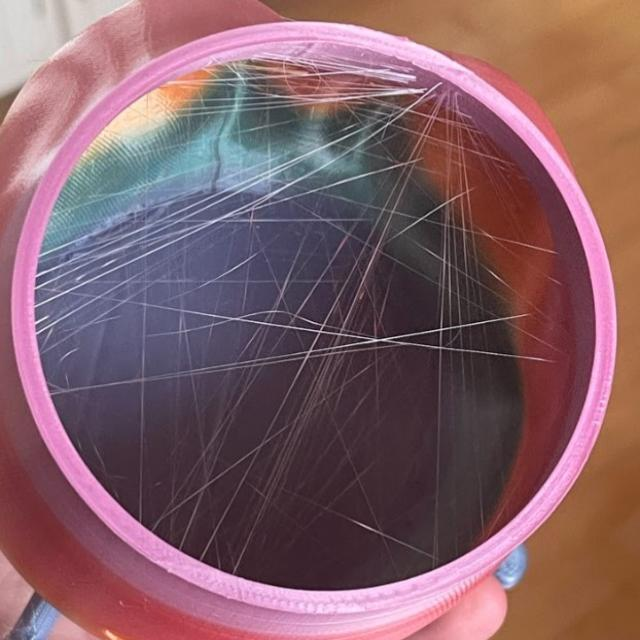stringing: (43, 122, 426, 369), (194, 186, 428, 580), (54, 297, 533, 408), (432, 107, 493, 296), (300, 68, 418, 140), (161, 295, 332, 341), (428, 292, 506, 370), (195, 69, 302, 114)
